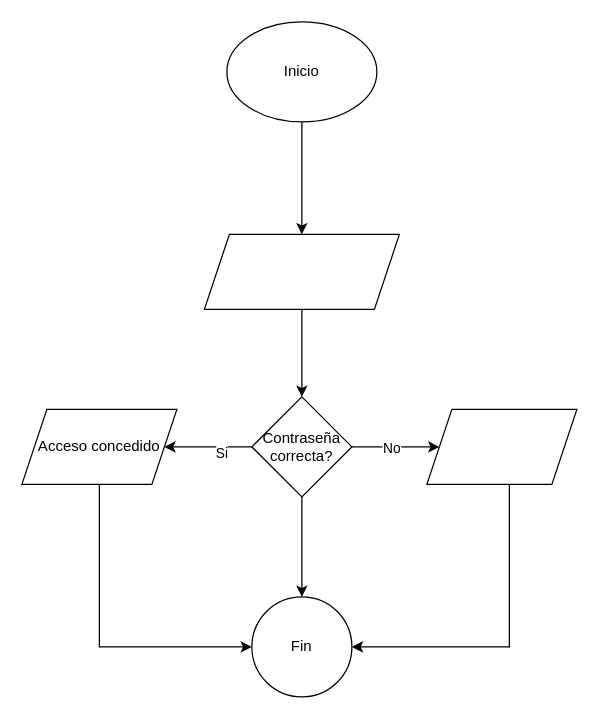
This 599x719 diagram has some shape labels left out. The box of each missing label's shape, as (x1, y1, x2, y2) in pixels:
Acceso denegado: (426, 408, 577, 484)
Ingrese su contaseña: (203, 233, 399, 309)
